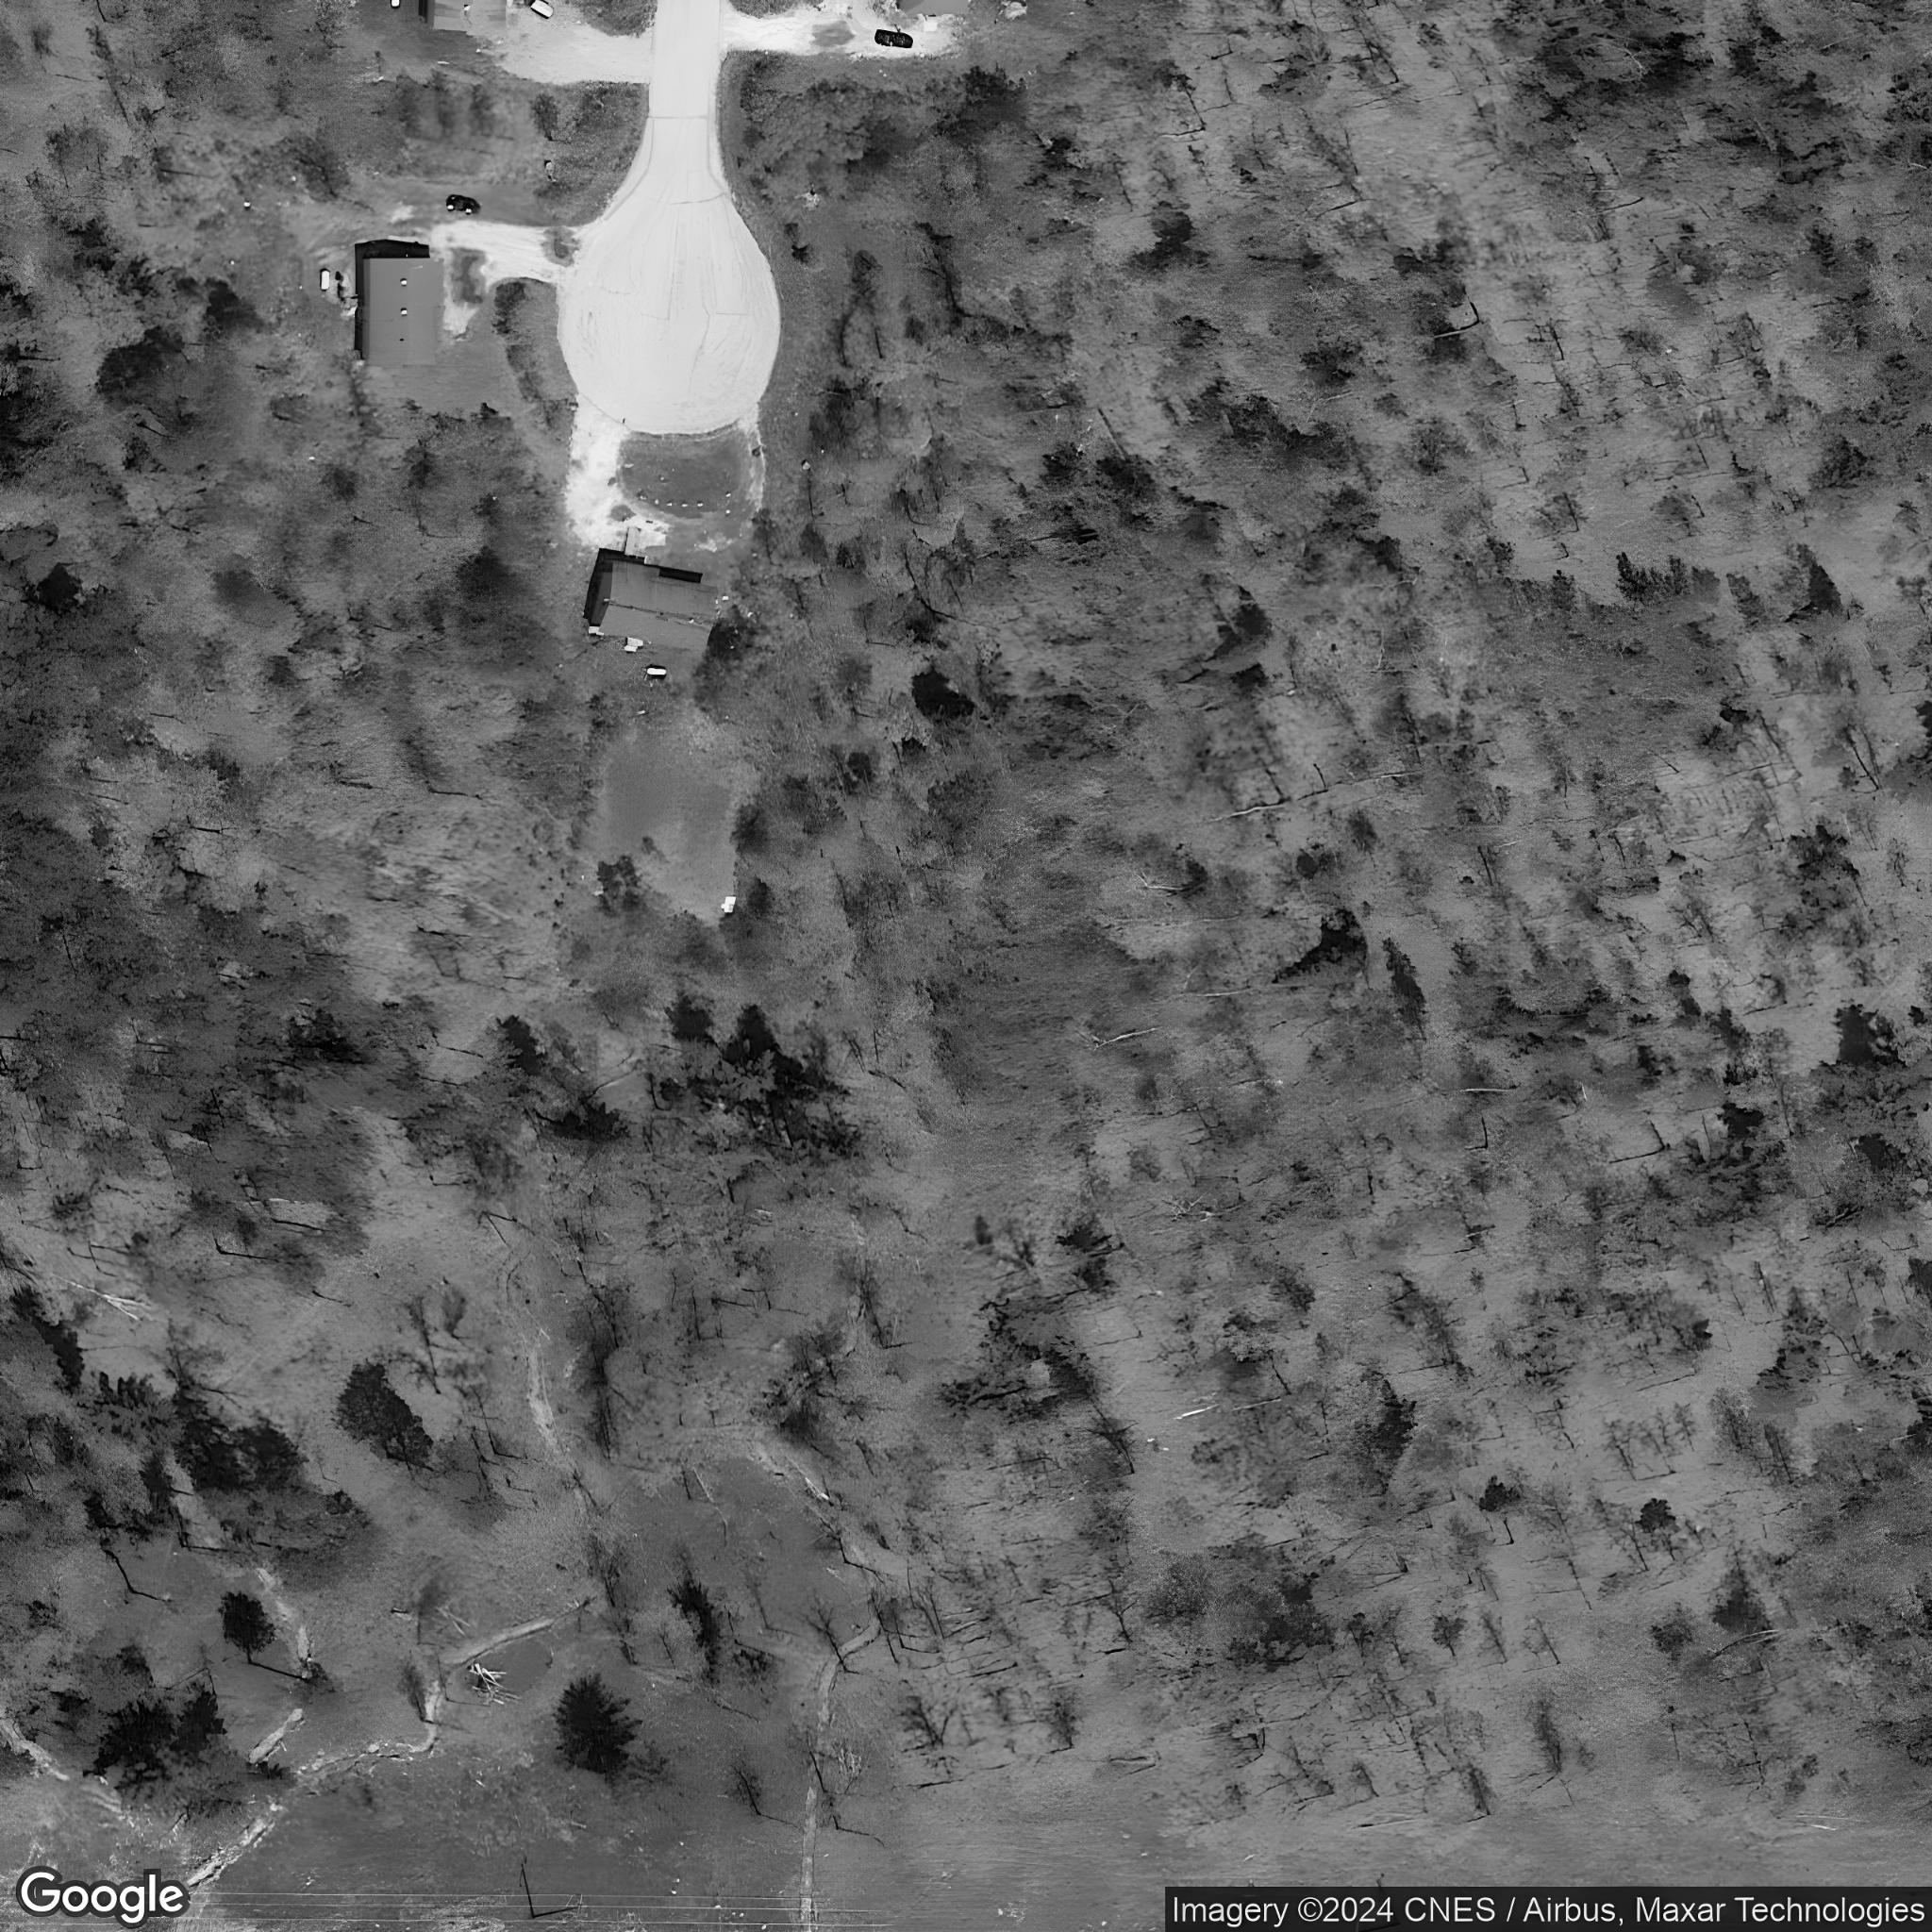House: (589, 561, 717, 655), (363, 257, 444, 368), (426, 0, 508, 32)
Propane: (646, 665, 671, 681), (318, 267, 329, 292)
